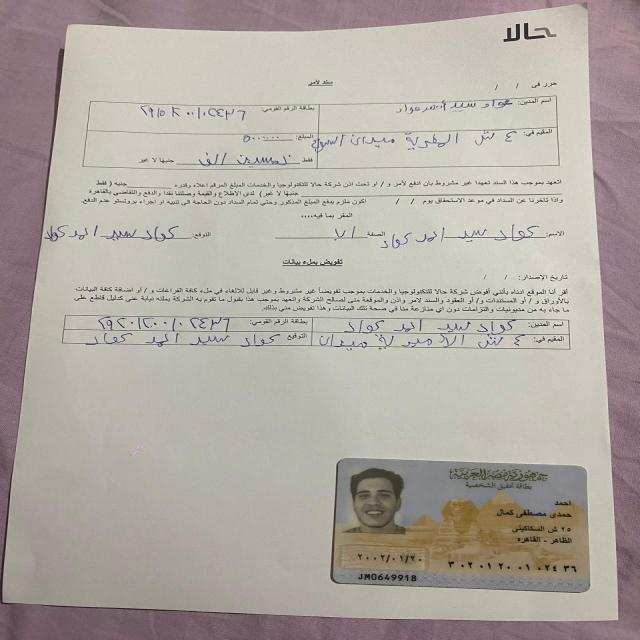id_card: (326, 455, 593, 598)
